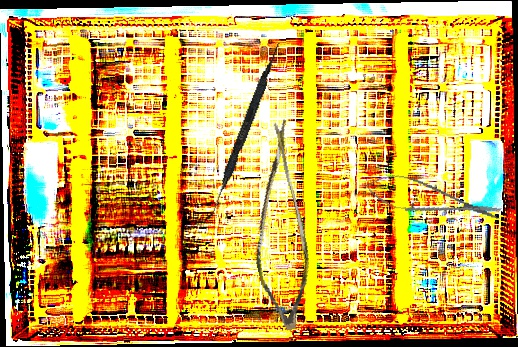Micro Scissor: (223, 114, 335, 335), (361, 168, 505, 231)
Spatula Surgical: (206, 40, 282, 223)
